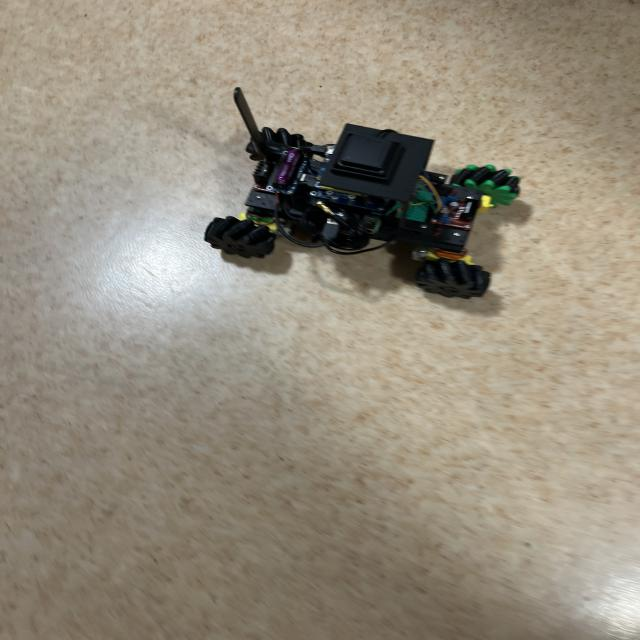robot: (204, 88, 519, 299)
